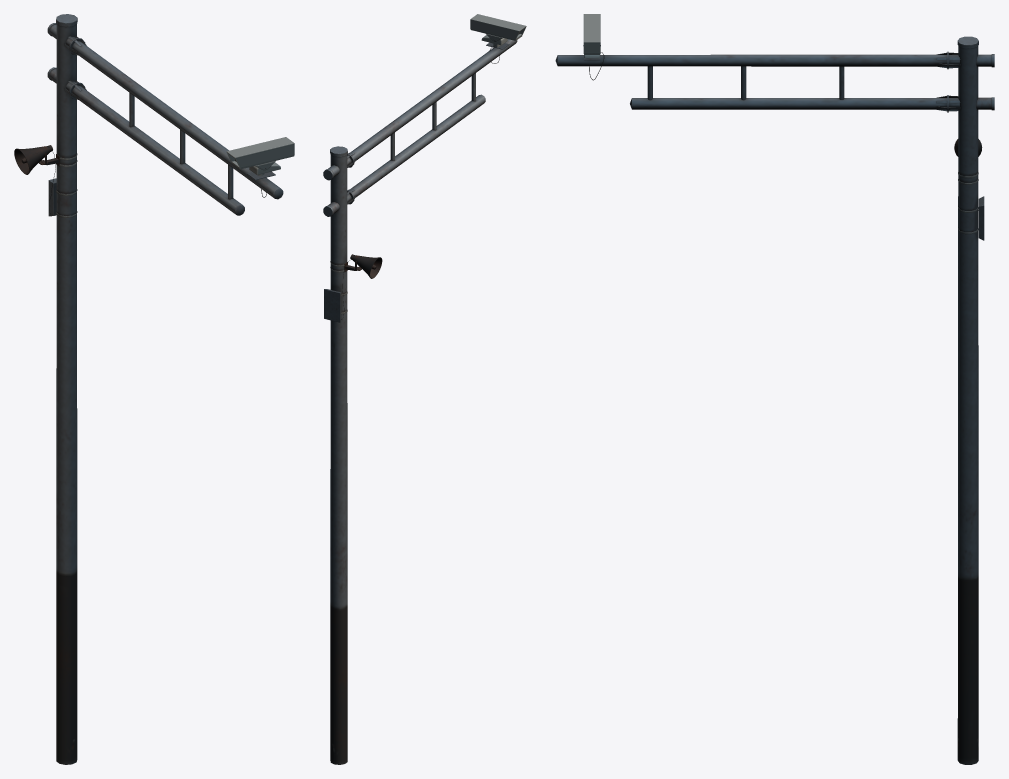
Rendered from Preset_Facility_Camera.fbx.
3 renders of one model, left to right at view 1: azimuth 30°, elevation 25°; view 2: azimuth 150°, elevation 25°; view 3: azimuth 270°, elevation 25°, orthographic. The views are drawn at different scales.
Visible parts, largest first — view 1: PoleVD, PoleHD, MonitoringCamera, Broadcasting; view 2: PoleVD, PoleHD, MonitoringCamera, Broadcasting, Board; view 3: PoleVD, PoleHD, MonitoringCamera.
Part boxes in pixels (x1,y1,x2,y2): PoleVD: [56, 14, 77, 764]; PoleHD: [47, 23, 283, 215]; MonitoringCamera: [226, 137, 294, 197]; Broadcasting: [14, 145, 77, 214]; PoleVD: [330, 146, 347, 764]; PoleHD: [323, 39, 517, 216]; MonitoringCamera: [470, 14, 526, 63]; Broadcasting: [330, 254, 382, 319]; Board: [324, 289, 347, 322]; PoleVD: [957, 36, 978, 764]; PoleHD: [555, 51, 994, 112]; MonitoringCamera: [583, 14, 604, 80].
Size of the model in its own units: 89.38 by 452 by 832.
Materials: 1 (1 with a texture image).
